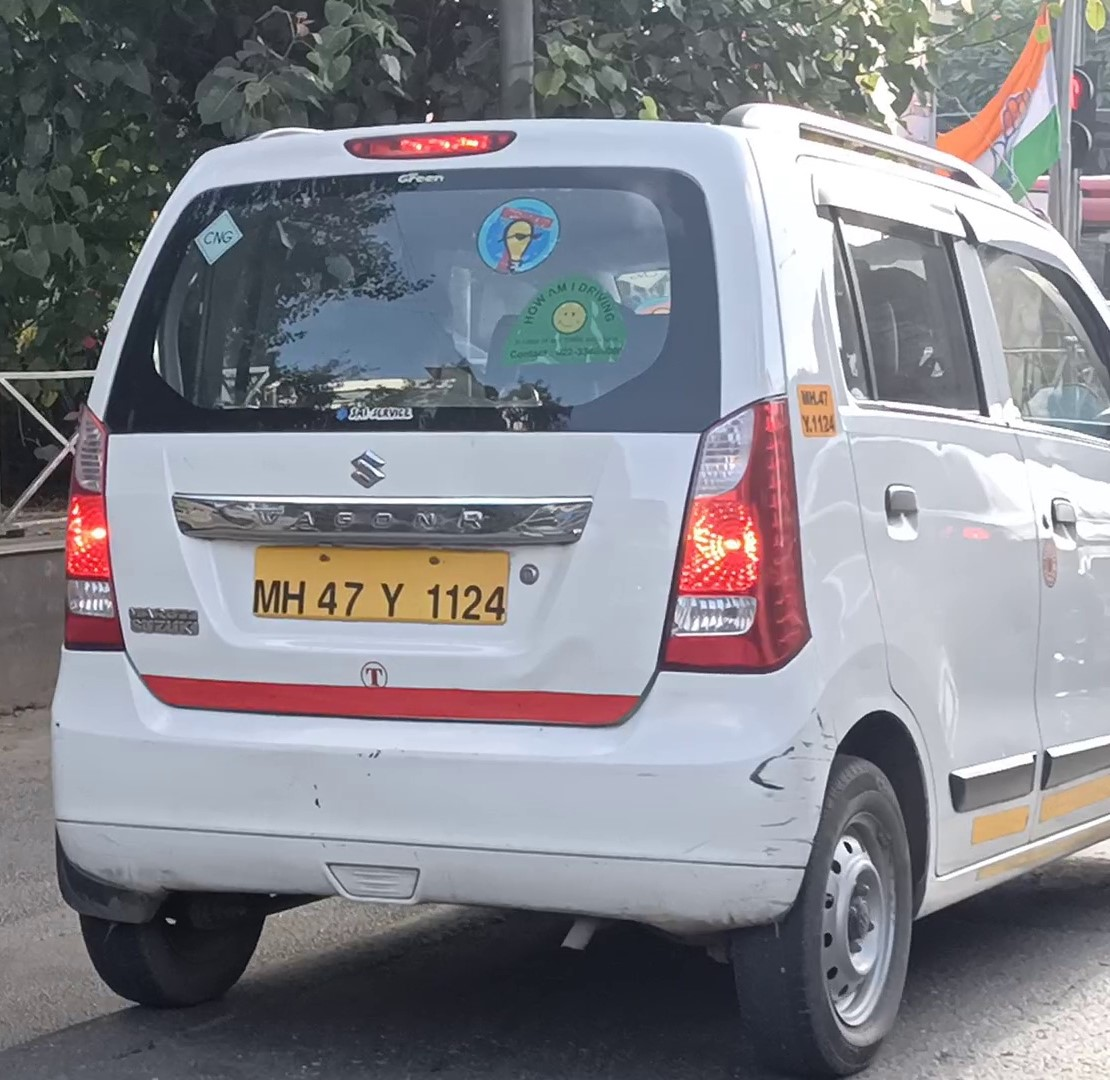MH47Y1124: (251, 540, 515, 627)
